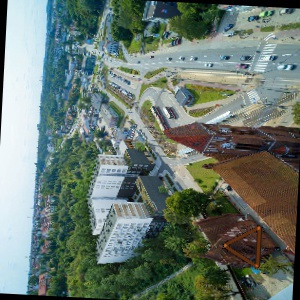triangle: (222, 224, 262, 268)
